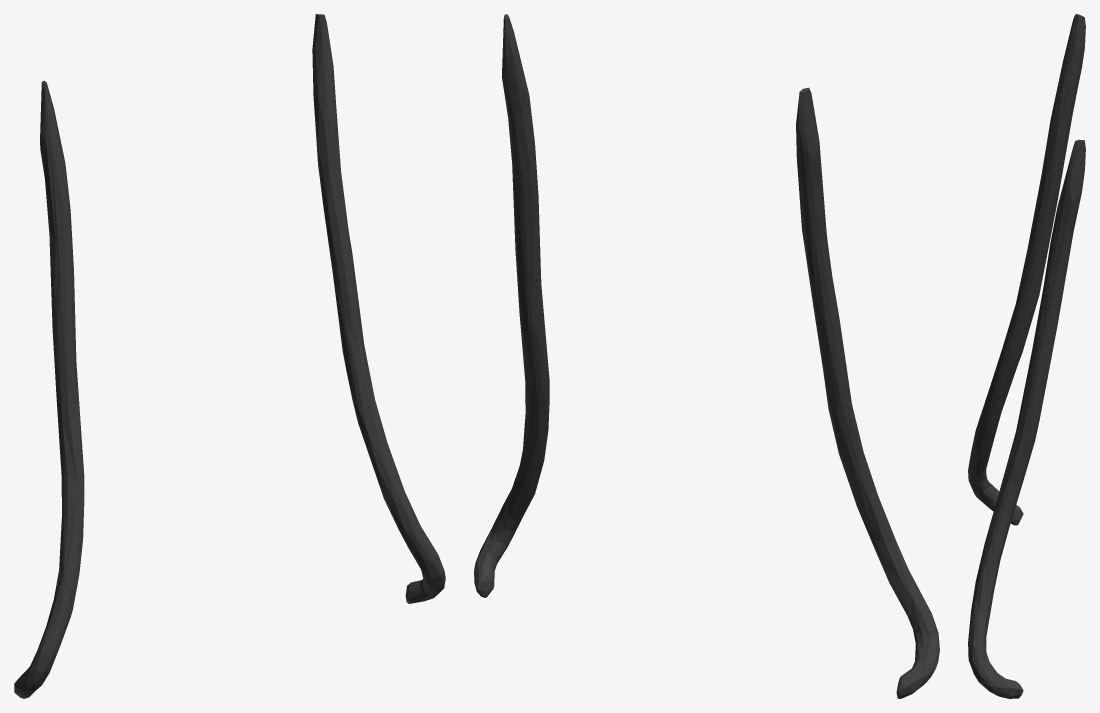
Rendered from m_brachoradialis.glb.
3 views of the same model, side by side, from view 1: azimuth 30°, elevation 25°; view 2: azimuth 150°, elevation 25°; view 3: azimuth 270°, elevation 25° (orthographic). The views are drawn at different scales.
Visible parts, largest first — view 1: m_brachoradialis; view 2: m_brachoradialis; view 3: m_brachoradialis.
Part boxes in pixels (x1=…): m_brachoradialis: x1=14, y1=14, x2=445, y2=698; m_brachoradialis: x1=474, y1=14, x2=939, y2=698; m_brachoradialis: x1=968, y1=14, x2=1085, y2=698.
Bounding box in the file's own units: 0.00417 × 0.00543 × 0.00109.
1 material, 1 textured.
